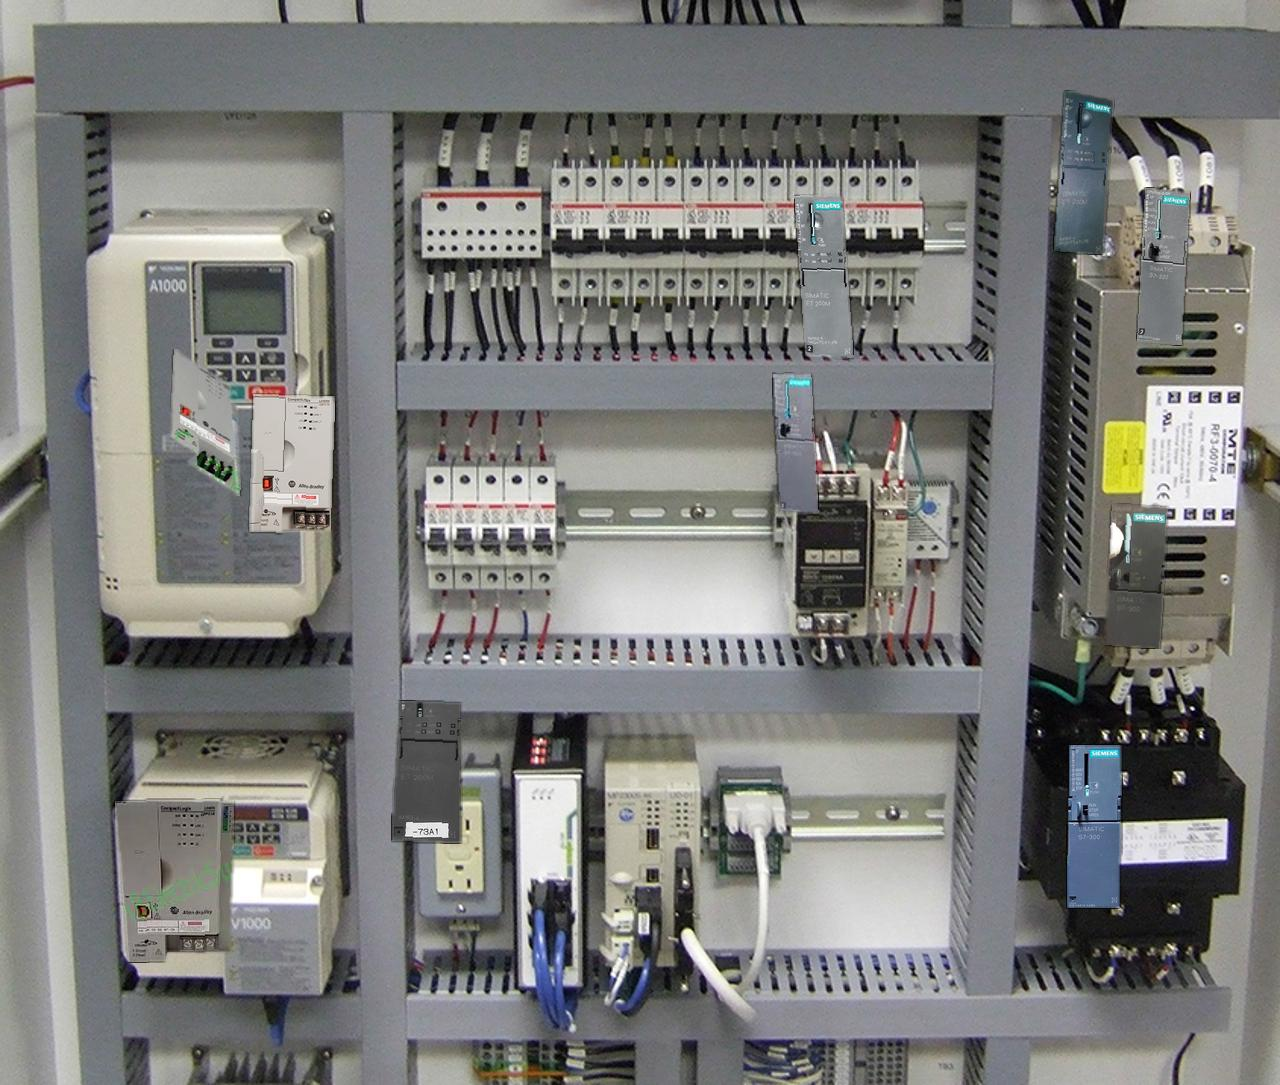AllenBradley: (115, 800, 233, 961), (250, 395, 334, 532), (171, 349, 240, 495)
Siemens: (1105, 505, 1167, 648), (1067, 745, 1121, 907), (1137, 188, 1188, 344), (772, 374, 818, 513)
